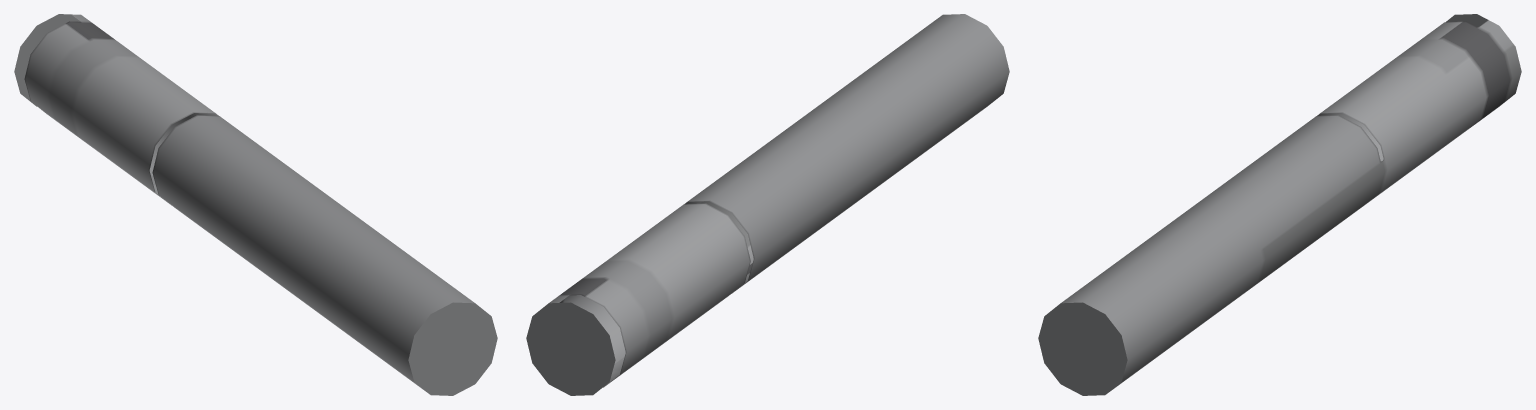
3 renders of one model, left to right at view 1: azimuth 30°, elevation 25°; view 2: azimuth 150°, elevation 25°; view 3: azimuth 330°, elevation 25°, orthographic.
Bounding box in the file's own units: 0.176 × 0.176 × 1.34.
